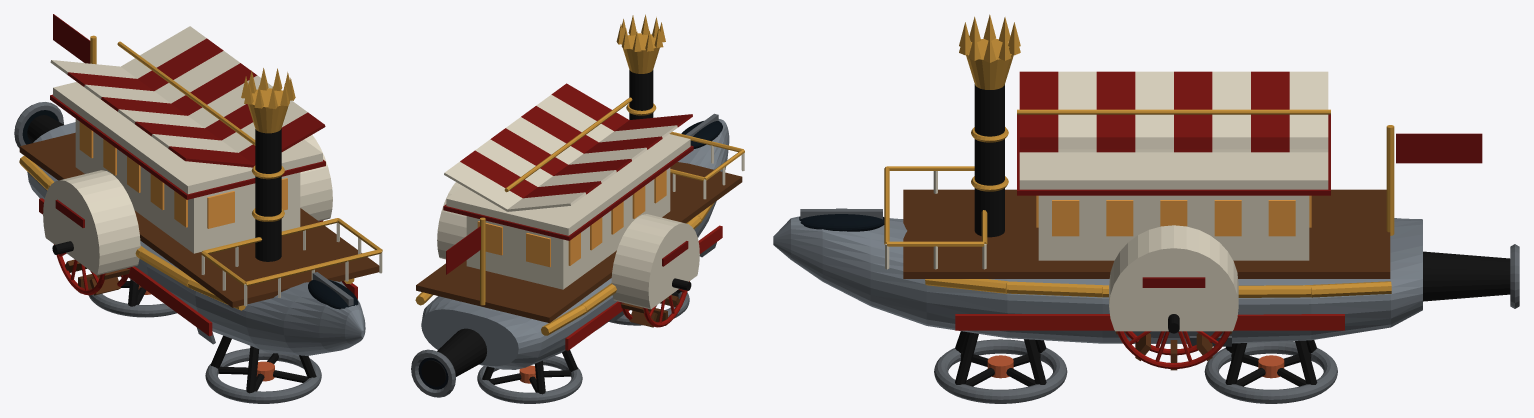
The model's file is launch.obj.
3 views of the same model, side by side, from view 1: azimuth 30°, elevation 25°; view 2: azimuth 150°, elevation 25°; view 3: azimuth 270°, elevation 25° (orthographic). The views are drawn at different scales.
Visible parts, largest first — view 1: launch; view 2: launch; view 3: launch.
Boxes of the visible parts, bbox=[...] form: launch: bbox=[14, 14, 382, 403]; launch: bbox=[411, 14, 744, 403]; launch: bbox=[773, 14, 1519, 403].
Size of the model in its own units: 42.43 by 47.02 by 90.
Materials: 1 (1 with a texture image).
